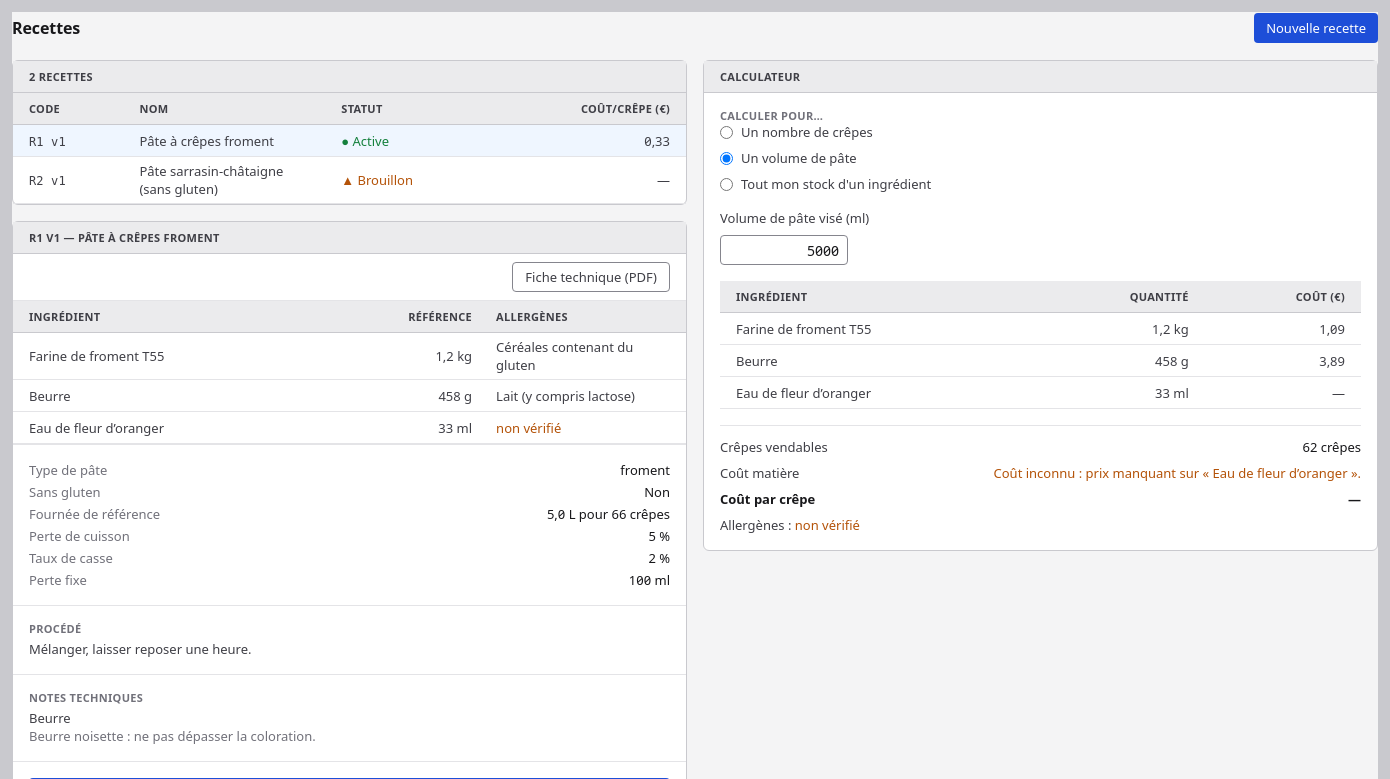
Test case: Recettes — calculateur › changer de cible repart d’une valeur RÉELLE de la recette, jamais d’un chiffre rond inventé
Click the radio button labelled "Un nombre de crêpes". click: (726, 132)
box: [720,126,733,138]
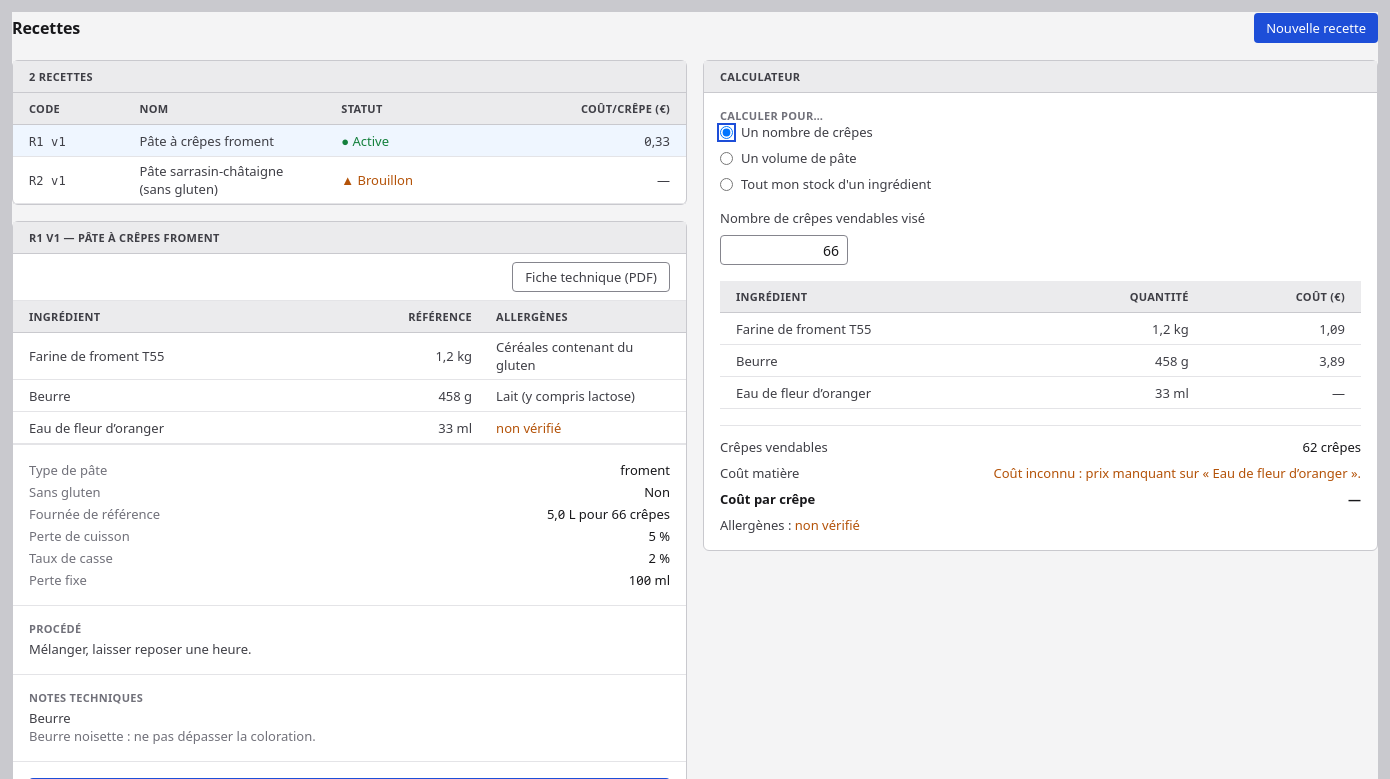
expect the field labelled "Nombre de crêpes vendables visé" holds "66": met, box [720,235,848,265]
